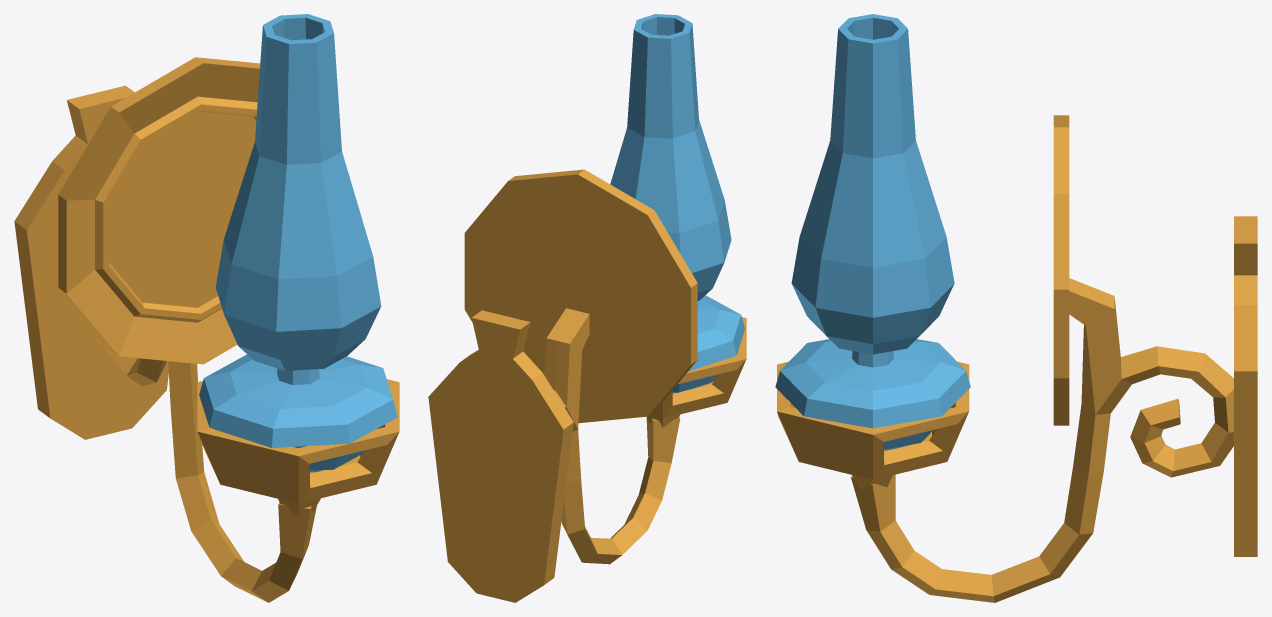
Rendered from SM_Light_Wall_Gas.fbx.
The picture shows the model from 3 angles, left to right: view 1: azimuth 30°, elevation 25°; view 2: azimuth 150°, elevation 25°; view 3: azimuth 270°, elevation 25°; orthographic projection. The views are drawn at different scales.
Visible parts, largest first — view 1: light-wall-gas; view 2: light-wall-gas; view 3: light-wall-gas.
Boxes of the visible parts, box(x1,y1,x2,y2) form: light-wall-gas: box(14, 14, 399, 602); light-wall-gas: box(428, 14, 746, 602); light-wall-gas: box(775, 14, 1257, 602).
Size of the model in its own units: 0.1898 by 0.4 by 0.3046.
